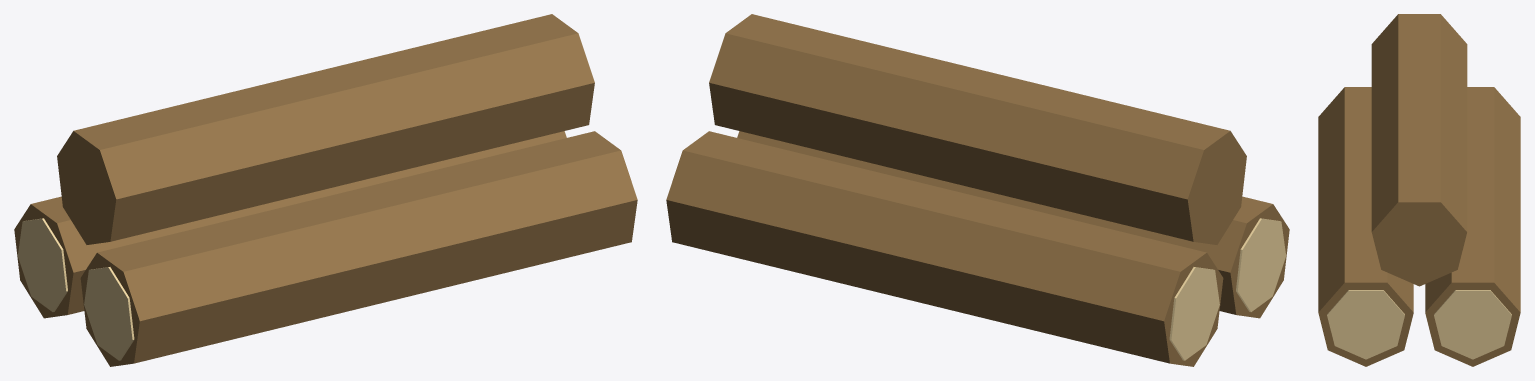
File: drop_logs_teak.glb
The picture shows the model from 3 angles, left to right: view 1: azimuth 30°, elevation 25°; view 2: azimuth 150°, elevation 25°; view 3: azimuth 270°, elevation 25°; orthographic projection. The views are drawn at different scales.
Visible parts, largest first — view 1: drop_logs_teak; view 2: drop_logs_teak; view 3: drop_logs_teak.
Part boxes in pixels (x1=…): drop_logs_teak: x1=14, y1=14, x2=637, y2=366; drop_logs_teak: x1=666, y1=14, x2=1289, y2=366; drop_logs_teak: x1=1318, y1=14, x2=1520, y2=366.
Size of the model in its own units: 0.524 by 0.1996 by 0.2272.
